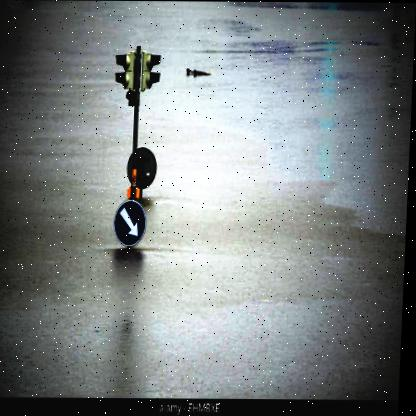Keep right: (116, 201, 151, 248)
